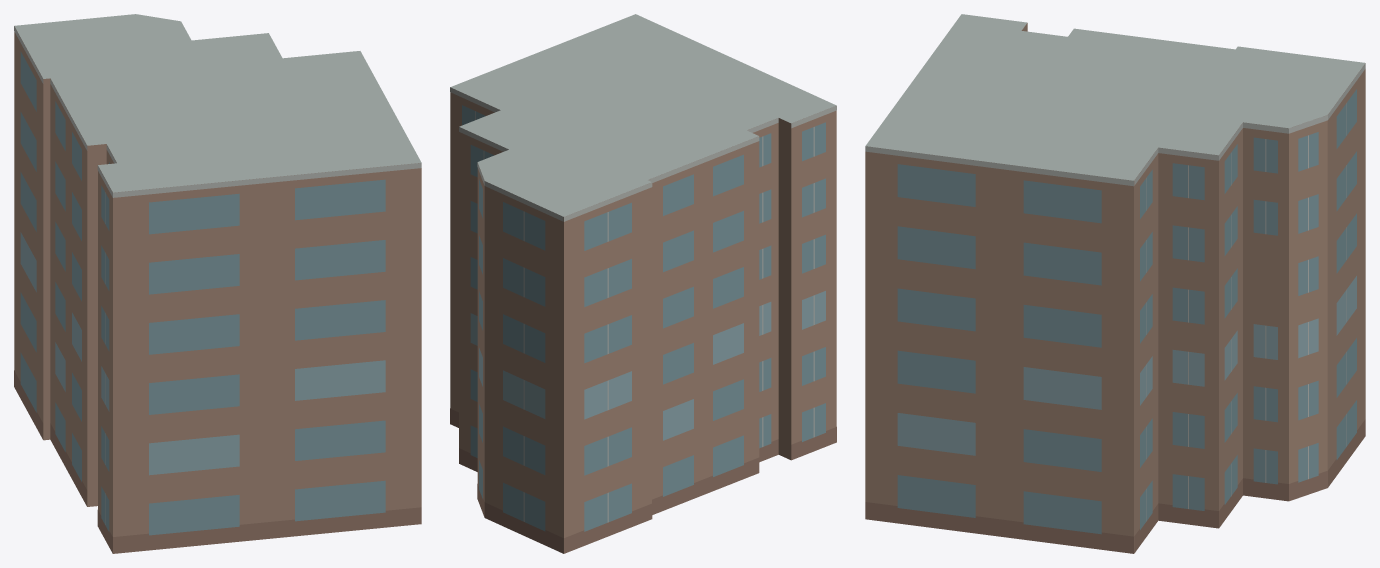
The model's file is survey-upis-32874298.glb.
The picture shows the model from 3 angles, left to right: view 1: azimuth 30°, elevation 25°; view 2: azimuth 150°, elevation 25°; view 3: azimuth 270°, elevation 25°; orthographic projection. The views are drawn at different scales.
Parts seen in each view (by area): view 1: survey-upis-32874298.tmp; view 2: survey-upis-32874298.tmp; view 3: survey-upis-32874298.tmp.
Part boxes in pixels (x1,y1,x2,y2): survey-upis-32874298.tmp: [14, 14, 421, 553]; survey-upis-32874298.tmp: [450, 14, 836, 553]; survey-upis-32874298.tmp: [865, 14, 1365, 553].
Size of the model in its own units: 15.92 by 16.6 by 20.19.
